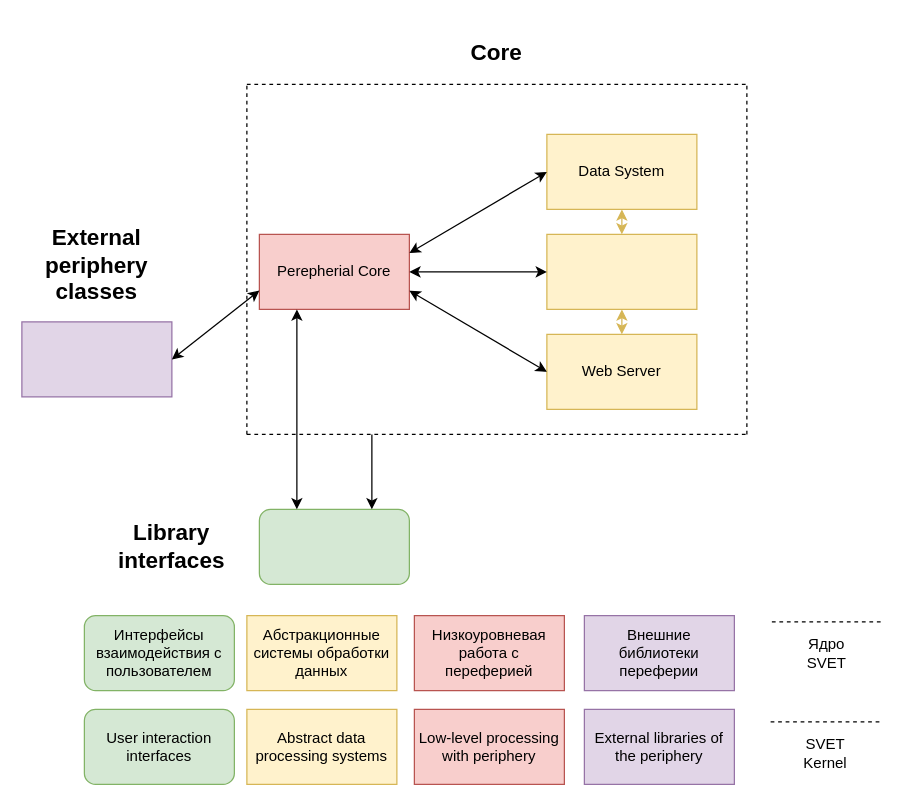
This 908x806 diagram has some shape labels left out. The centre of each missing label's shape, as x and y in pixels:
"Event System" goes at [621,271].
"Logger" goes at [333,546].
"Serial" goes at [96,359].
